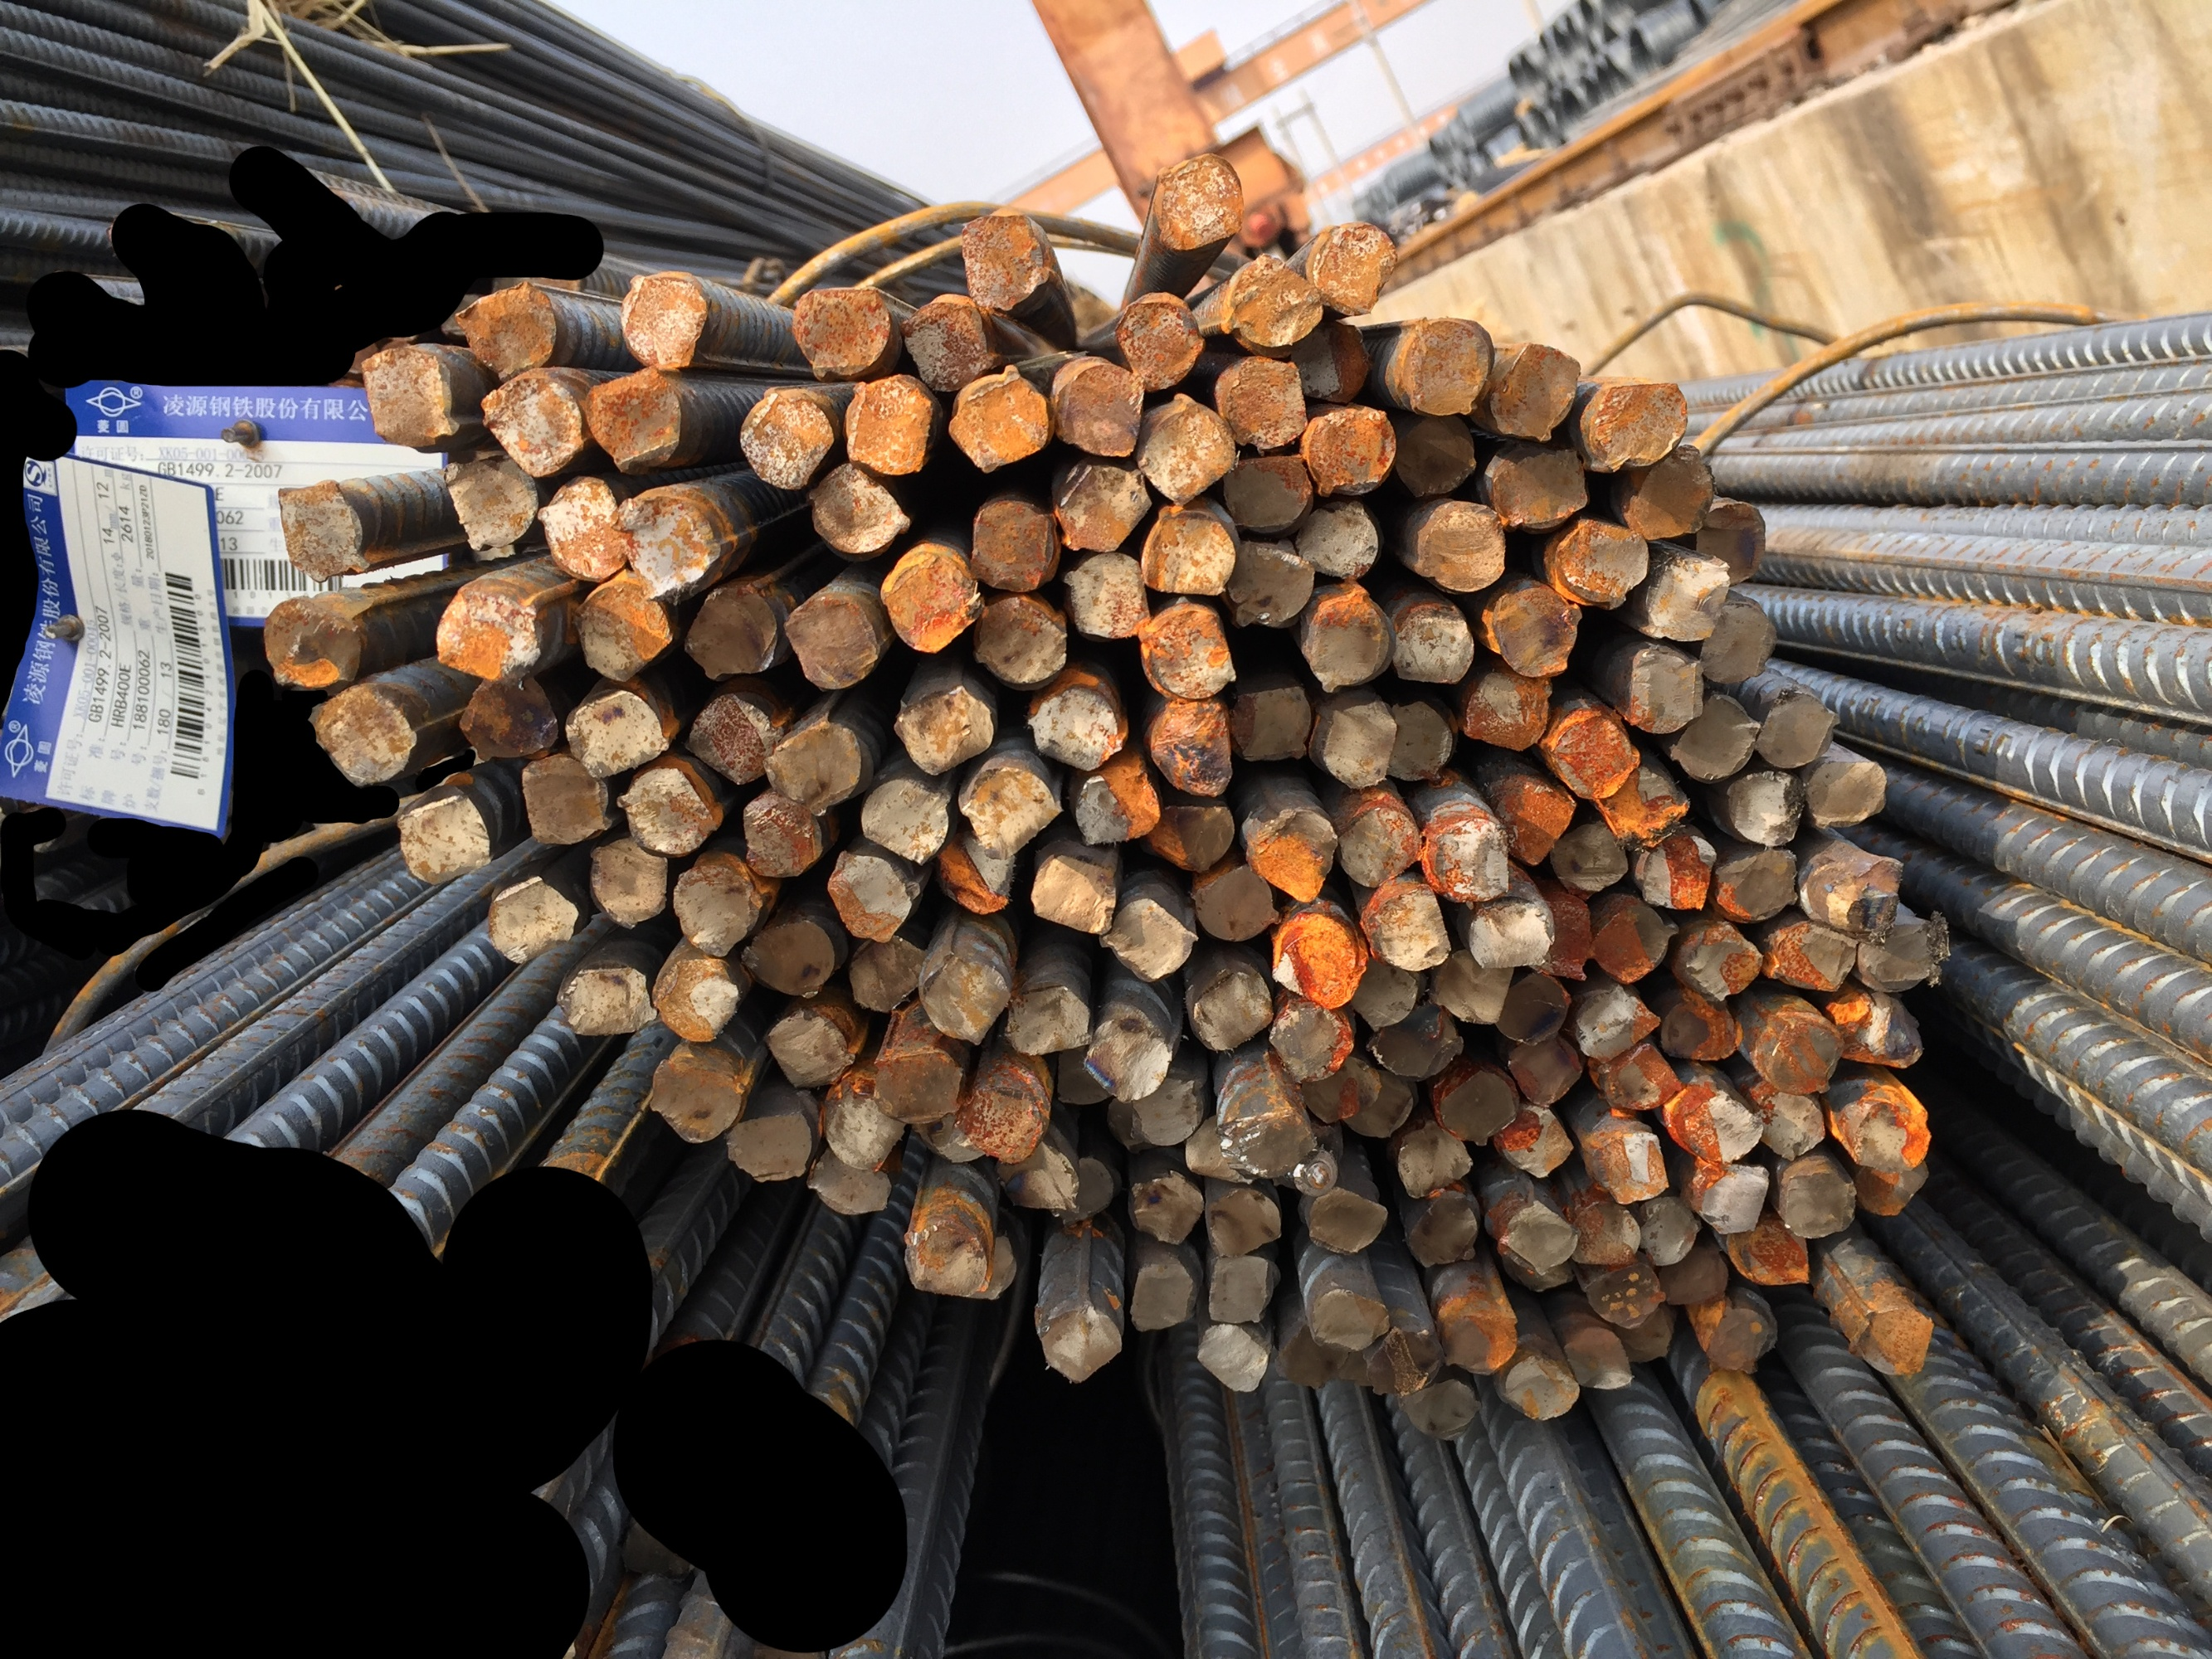rebar: (605, 484, 718, 606), (940, 361, 1058, 474), (303, 681, 420, 793), (1290, 580, 1396, 701), (572, 362, 685, 474), (525, 467, 633, 580), (429, 584, 553, 681), (725, 385, 835, 495), (565, 572, 673, 681), (345, 347, 458, 451), (1584, 371, 1698, 476), (472, 371, 587, 474), (882, 549, 988, 655), (607, 767, 723, 863), (760, 711, 868, 814), (450, 671, 565, 767), (1222, 246, 1323, 354), (1389, 314, 1490, 422), (784, 282, 894, 382), (251, 594, 363, 692), (561, 683, 673, 781), (1149, 146, 1246, 258), (640, 1054, 753, 1150), (1140, 390, 1236, 504), (802, 462, 917, 556), (776, 596, 880, 699), (607, 268, 708, 375), (840, 369, 934, 483), (676, 688, 781, 789), (957, 760, 1062, 861), (1137, 603, 1241, 704), (948, 209, 1048, 315), (436, 455, 544, 552), (1093, 892, 1201, 990), (1267, 908, 1367, 1012), (1485, 336, 1584, 441), (892, 300, 1001, 396), (1218, 347, 1311, 458), (1137, 498, 1238, 599), (453, 281, 556, 380), (1546, 514, 1649, 613), (1663, 690, 1768, 788), (891, 681, 997, 777), (676, 587, 784, 681), (1299, 403, 1401, 500), (1616, 446, 1719, 544), (1145, 692, 1238, 800), (270, 481, 370, 580), (1049, 359, 1147, 460), (1109, 295, 1211, 390), (1246, 805, 1339, 911), (1400, 502, 1506, 594), (973, 587, 1069, 688), (1025, 842, 1119, 945), (1304, 216, 1400, 315), (582, 833, 676, 934), (1487, 446, 1597, 532), (915, 950, 1011, 1047), (824, 847, 919, 946), (1637, 552, 1736, 647), (392, 796, 495, 885), (859, 765, 947, 870), (1496, 772, 1583, 877), (1229, 530, 1314, 636), (1752, 683, 1846, 779), (668, 864, 760, 962), (1056, 464, 1156, 554), (1220, 448, 1320, 538), (1023, 687, 1124, 775), (479, 880, 582, 967), (1820, 849, 1914, 943), (514, 758, 610, 850), (1074, 755, 1166, 850), (1215, 1094, 1311, 1187), (1567, 978, 1663, 1070), (1058, 551, 1156, 641), (1487, 591, 1584, 681), (960, 502, 1055, 594), (652, 955, 743, 1051), (1659, 1086, 1769, 1164), (739, 917, 842, 1000), (1593, 760, 1696, 843), (1367, 882, 1455, 978), (994, 978, 1095, 1061), (1314, 692, 1398, 793), (1224, 678, 1314, 770), (1462, 667, 1551, 762), (1687, 596, 1783, 683), (1710, 845, 1809, 929), (1551, 709, 1642, 800), (899, 1215, 992, 1304), (1082, 1014, 1175, 1103), (1333, 796, 1422, 889), (1586, 896, 1675, 988), (1630, 833, 1726, 918), (1389, 406, 1485, 491), (1693, 493, 1774, 592), (1189, 861, 1281, 948), (1187, 960, 1272, 1054), (1858, 915, 1952, 1000), (1297, 1180, 1394, 1262), (760, 1007, 852, 1093), (1288, 317, 1374, 410), (1464, 890, 1557, 976), (553, 962, 655, 1039), (1827, 995, 1930, 1072), (1389, 599, 1471, 695), (1145, 791, 1243, 871), (1797, 749, 1895, 829), (1616, 652, 1713, 732), (1037, 1302, 1126, 1389), (1675, 917, 1764, 1004), (1433, 1295, 1523, 1380), (1579, 1121, 1670, 1206), (1750, 1011, 1846, 1091), (1370, 1002, 1469, 1079), (1686, 1152, 1773, 1239), (1424, 819, 1513, 904), (1848, 1094, 1937, 1180), (872, 1044, 962, 1127), (739, 793, 819, 887), (1288, 502, 1382, 582), (1269, 1002, 1354, 1089), (938, 829, 1020, 920), (1762, 917, 1855, 997), (819, 1084, 905, 1169), (1394, 1115, 1480, 1201), (1848, 1297, 1933, 1382), (835, 934, 926, 1014), (1119, 1169, 1210, 1248), (1658, 988, 1748, 1066), (1720, 762, 1804, 845), (1429, 941, 1511, 1026), (1773, 1162, 1858, 1244), (723, 1110, 818, 1183), (962, 1082, 1044, 1166), (1548, 819, 1630, 901), (1367, 1326, 1450, 1406), (1400, 1187, 1480, 1270), (1337, 946, 1417, 1030), (1123, 1251, 1198, 1340), (1379, 697, 1454, 786), (1293, 1054, 1384, 1127), (1525, 892, 1597, 985), (1492, 969, 1574, 1049), (807, 1143, 892, 1220), (1506, 1030, 1586, 1110), (1752, 1087, 1832, 1168), (1191, 1317, 1274, 1394), (1560, 1317, 1635, 1403), (1199, 1185, 1286, 1258), (1431, 1066, 1518, 1140), (1736, 1213, 1815, 1293), (992, 1140, 1077, 1213), (1569, 1188, 1642, 1274), (1182, 1108, 1252, 1197), (1304, 1286, 1394, 1354), (1497, 1195, 1578, 1272), (1504, 1349, 1581, 1427), (1583, 1260, 1673, 1326), (1848, 1152, 1933, 1220), (1496, 1107, 1572, 1182), (1595, 1049, 1684, 1114), (1632, 1185, 1703, 1265), (1123, 1077, 1204, 1147), (1661, 1237, 1734, 1310), (1206, 1253, 1278, 1326), (1607, 1297, 1679, 1370), (1703, 1307, 1776, 1378), (1347, 1072, 1419, 1145), (1281, 1124, 1349, 1201), (1403, 1378, 1483, 1443), (1278, 1324, 1346, 1392), (915, 1105, 983, 1168), (1496, 1253, 1590, 1297), (1049, 1042, 1110, 1108), (1063, 1150, 1116, 1223), (1347, 1328, 1396, 1406), (973, 1229, 1020, 1307), (1103, 1093, 1156, 1159)
